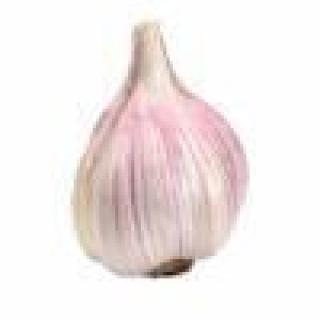Bawang Putih: (65, 17, 254, 276)
